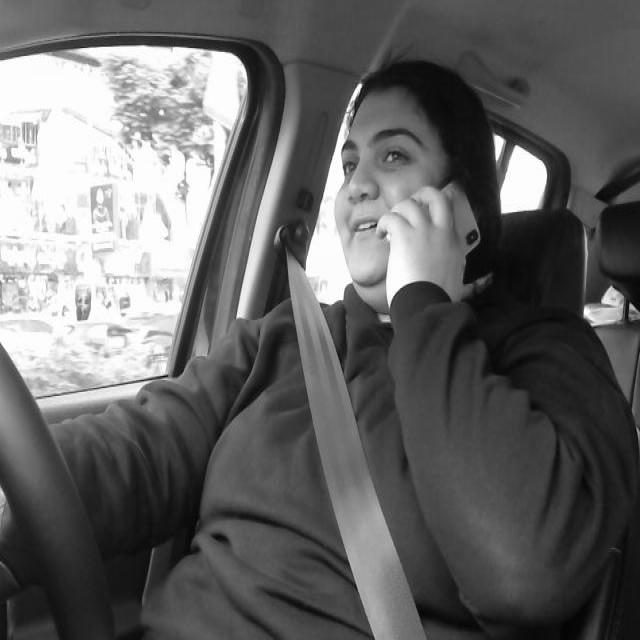mobile use: (392, 172, 483, 290)
